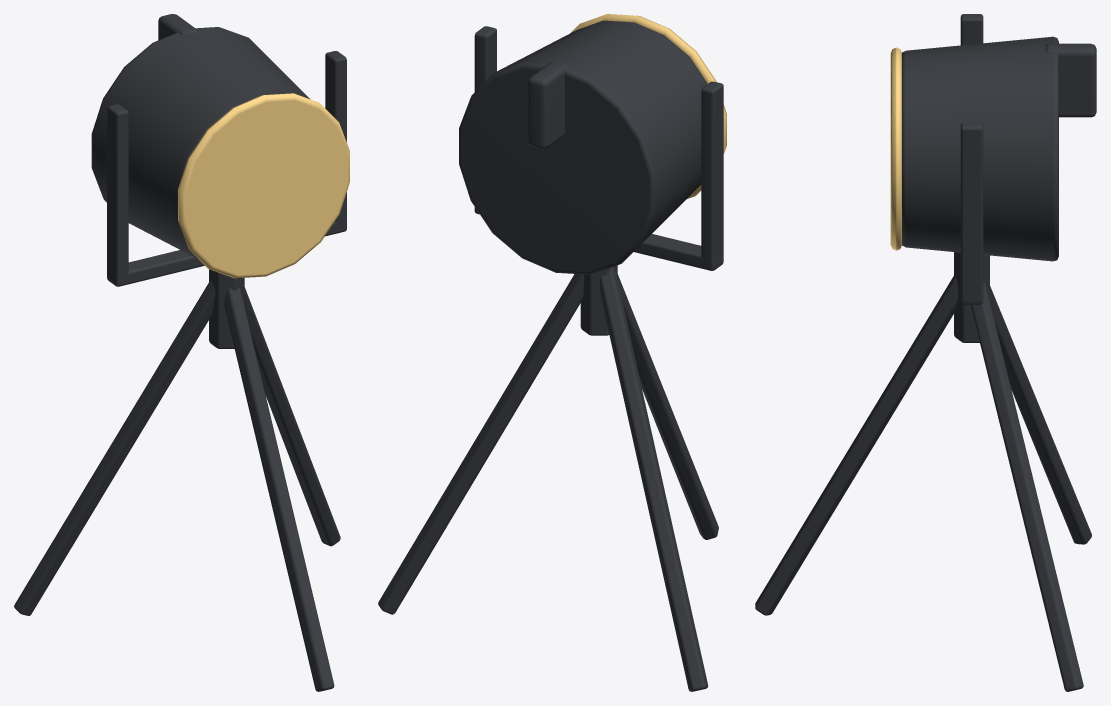
Rendered from zoeklicht.glb.
The picture shows the model from 3 angles, left to right: view 1: azimuth 30°, elevation 25°; view 2: azimuth 150°, elevation 25°; view 3: azimuth 270°, elevation 25°; orthographic projection. The views are drawn at different scales.
Visible parts, largest first — view 1: Head, Zoeklicht; view 2: Head, Zoeklicht; view 3: Head, Zoeklicht.
Boxes of the visible parts, x1,y1,x2,y2 form: Head: (91, 14, 349, 278); Zoeklicht: (14, 51, 346, 691); Head: (459, 14, 726, 274); Zoeklicht: (378, 26, 723, 691); Head: (890, 36, 1096, 261); Zoeklicht: (755, 14, 1091, 691).
Bounding box in the file's own units: 0.9932 × 1.66 × 0.9036.
